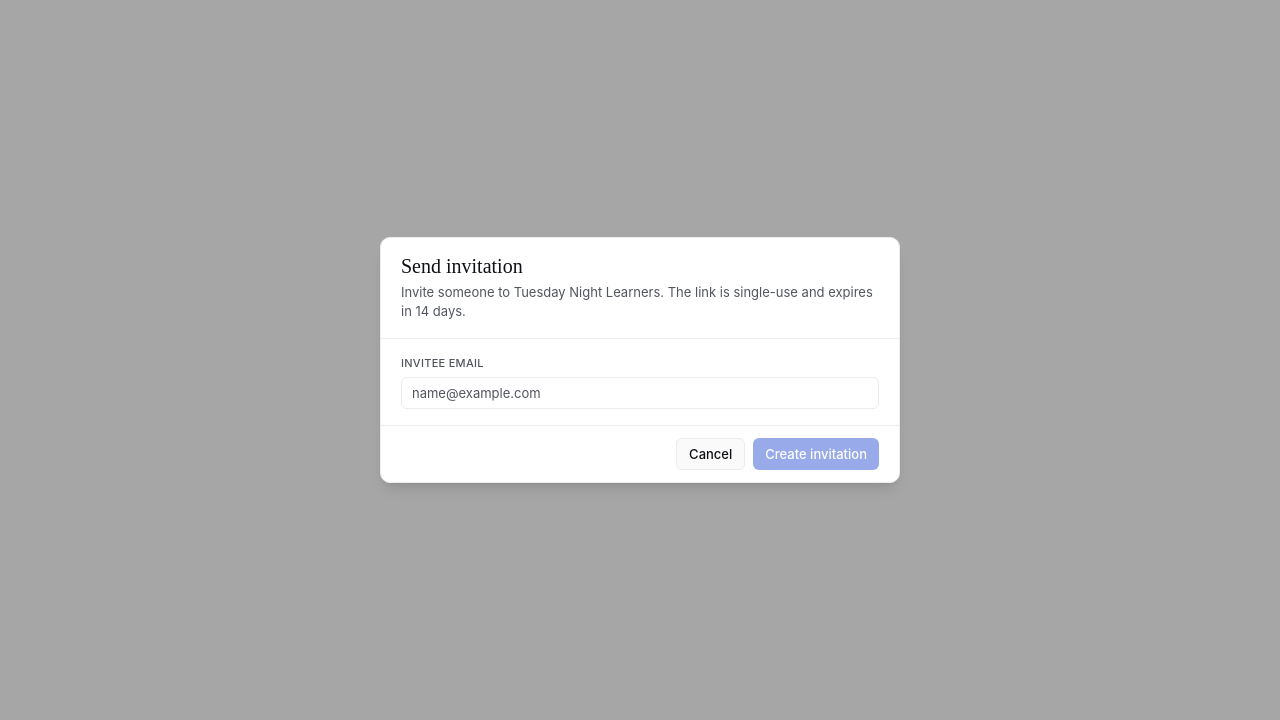
Test: InviteDialog result phase › shows the private-instance warning Callout only when emailApproved is false
Type "newbie@example.com" into the field labelled "Invitee email" at (640, 393), box [401,377,879,409]
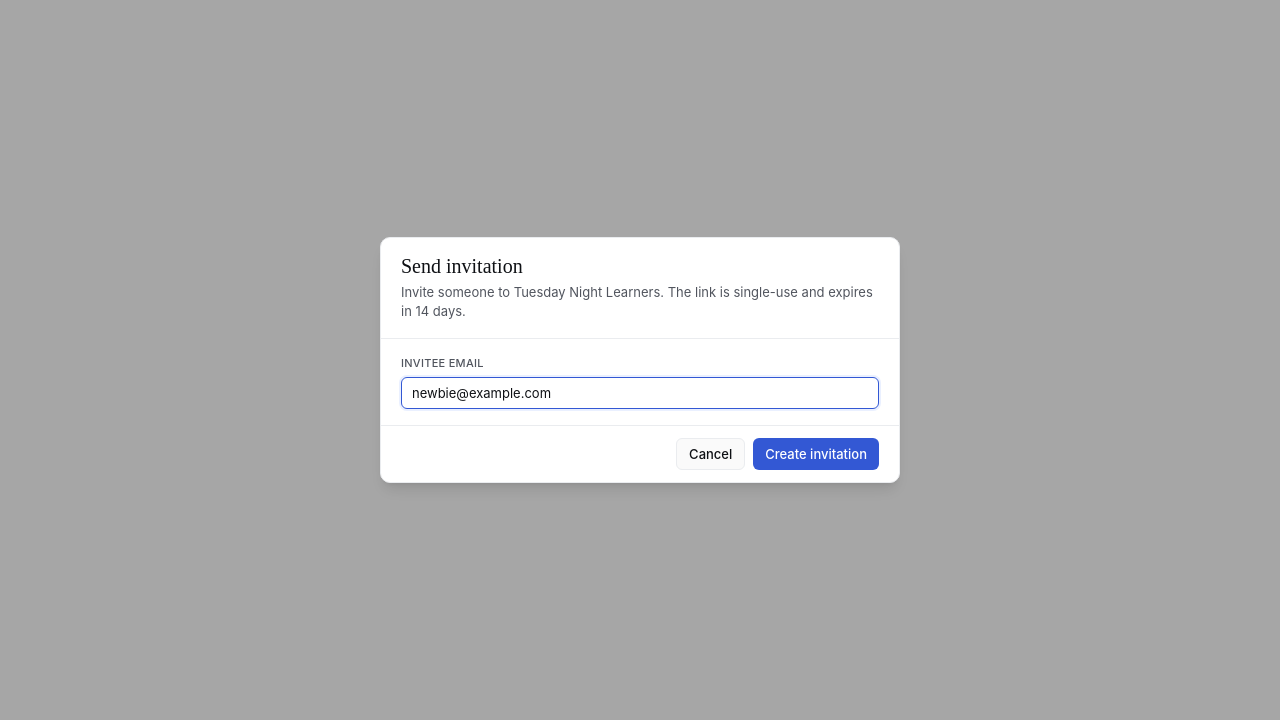
Click the button "Create invitation" at (816, 454), box [753,438,879,470]
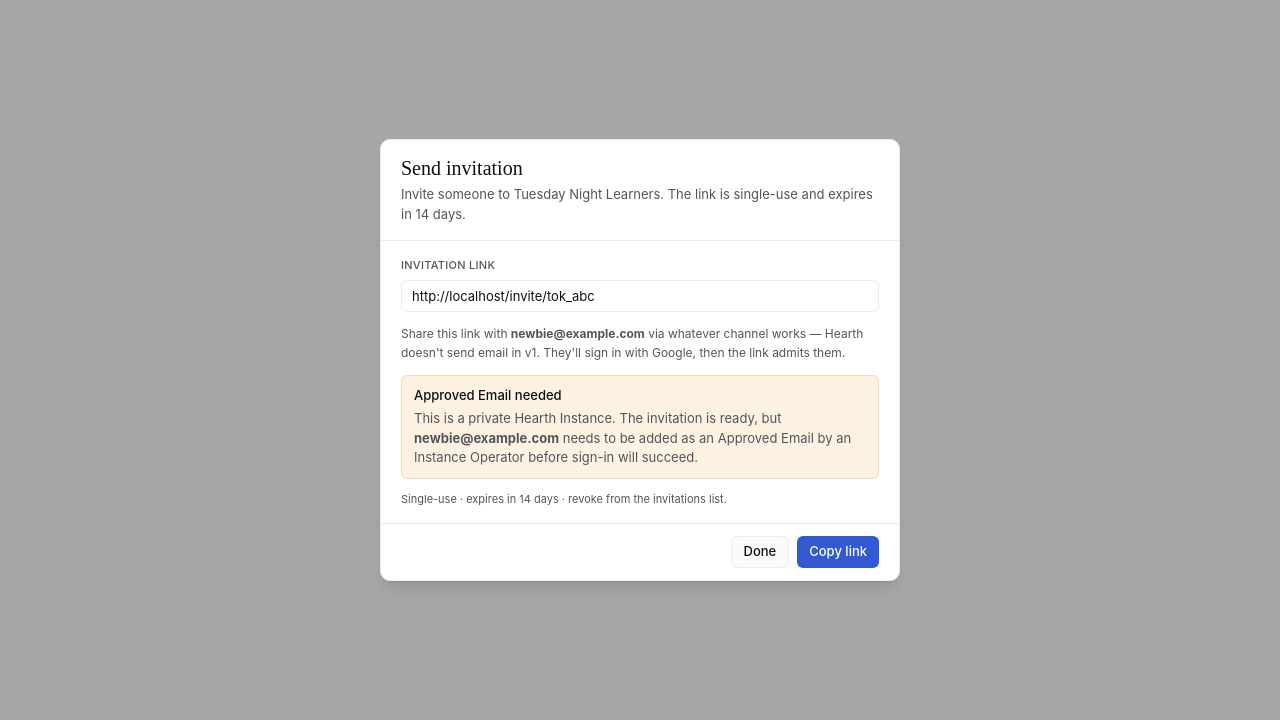
Result: the text "Approved Email needed" is shown at [414,386,562,402]
